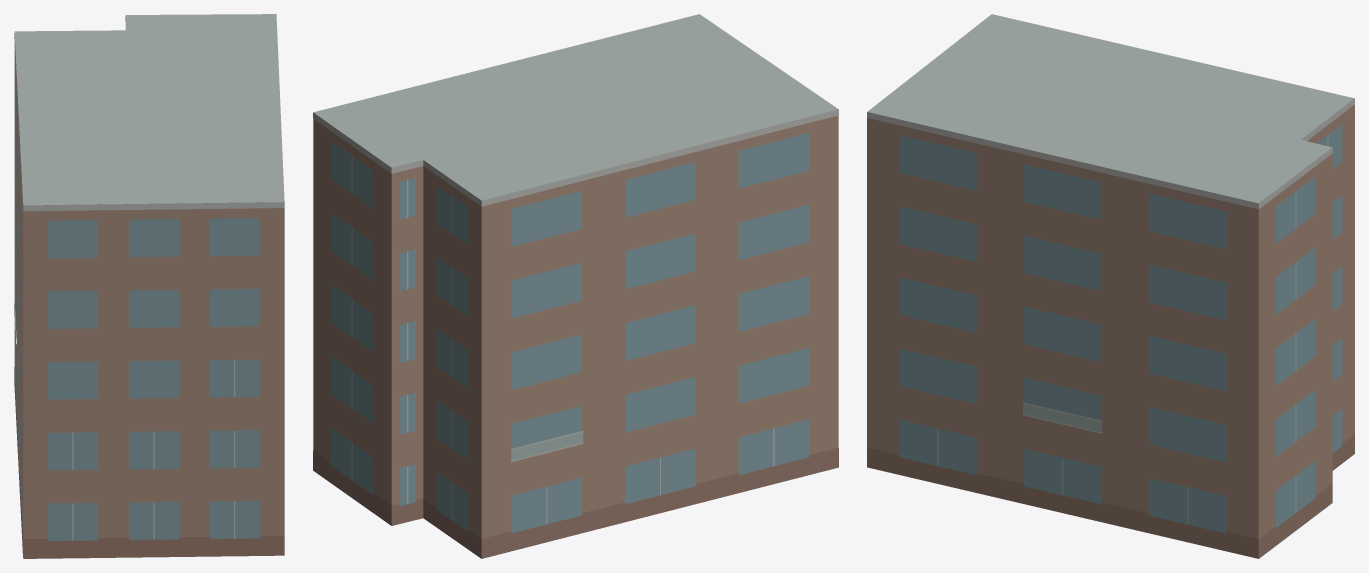
File: survey-upis-32876005.glb
The picture shows the model from 3 angles, left to right: view 1: azimuth 30°, elevation 25°; view 2: azimuth 150°, elevation 25°; view 3: azimuth 270°, elevation 25°; orthographic projection.
Visible parts, largest first — view 1: survey-upis-32876005.tmp; view 2: survey-upis-32876005.tmp; view 3: survey-upis-32876005.tmp.
Part boxes in pixels (left/top/right/bottom): survey-upis-32876005.tmp: left=14, top=14, right=284, bottom=558; survey-upis-32876005.tmp: left=313, top=14, right=838, bottom=558; survey-upis-32876005.tmp: left=867, top=14, right=1354, bottom=558.
Bounding box in the file's own units: 16.58 × 14.5 × 18.04.
